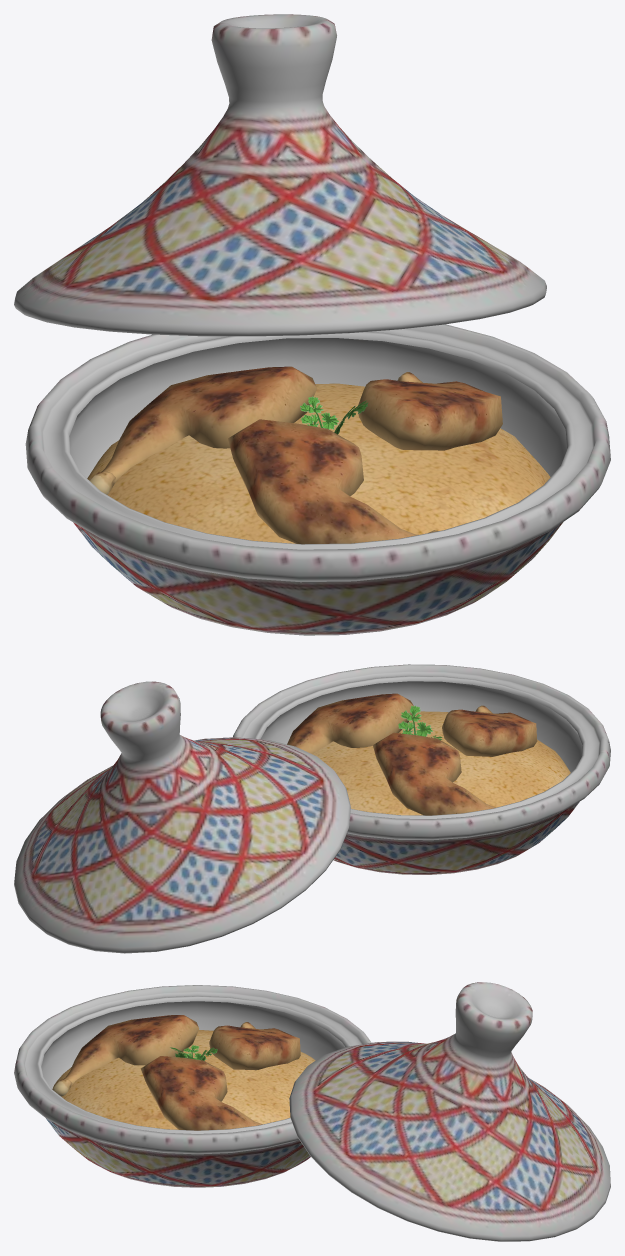
File: modern-tagine.glb
The picture shows the model from 3 angles, top to bottom: view 1: azimuth 30°, elevation 25°; view 2: azimuth 150°, elevation 25°; view 3: azimuth 270°, elevation 25°; orthographic projection. The views are drawn at different scales.
Visible parts, largest first — view 1: pot_Tagine_MAT_0, couscous_Food_MAT_0; view 2: pot_Tagine_MAT_0, couscous_Food_MAT_0; view 3: pot_Tagine_MAT_0, couscous_Food_MAT_0.
Boxes of the visible parts, left/top/right/bottom form: pot_Tagine_MAT_0: left=14, top=14, right=610, bottom=635; couscous_Food_MAT_0: left=87, top=366, right=550, bottom=544; pot_Tagine_MAT_0: left=14, top=664, right=610, bottom=953; couscous_Food_MAT_0: left=287, top=693, right=570, bottom=815; pot_Tagine_MAT_0: left=14, top=982, right=610, bottom=1241; couscous_Food_MAT_0: left=52, top=1015, right=315, bottom=1130.
Size of the model in its own units: 2.55 by 1.24 by 3.25.
2 materials, 2 textured.
